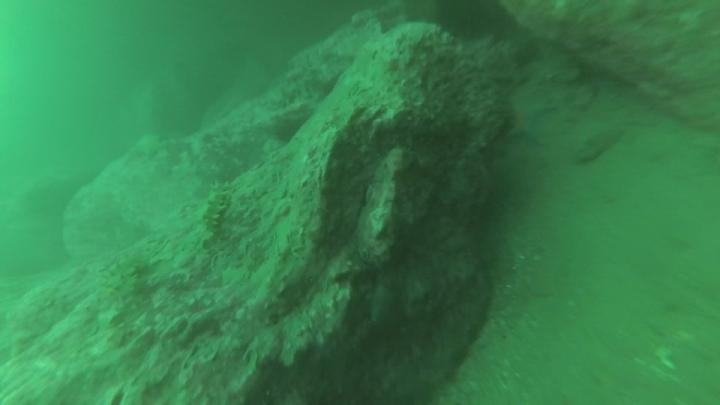holothurian: (97, 253, 149, 323), (197, 177, 240, 246)
